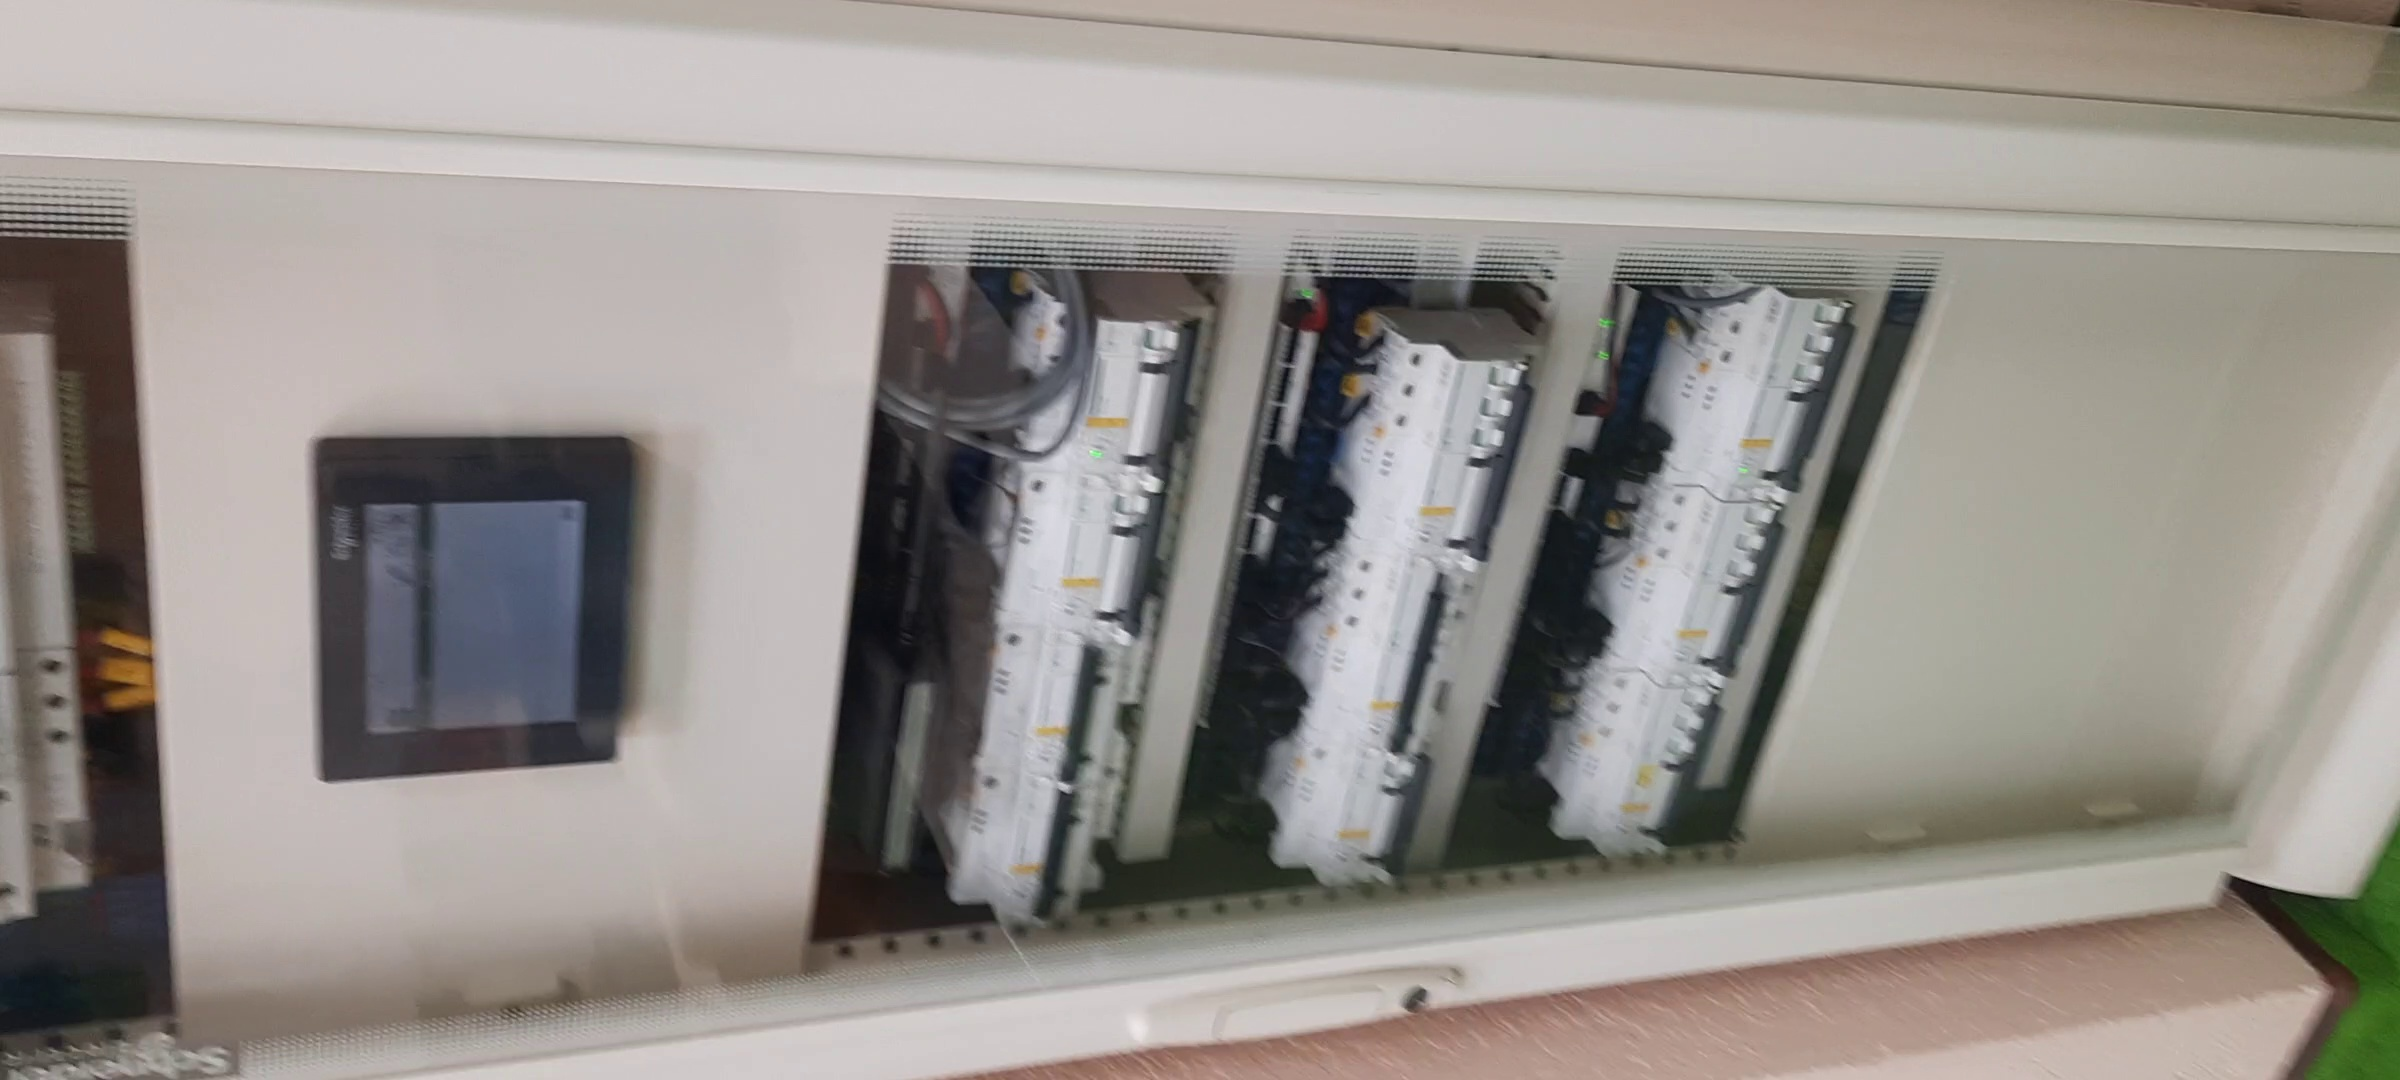smart_stand: (2, 63, 2389, 1080)
